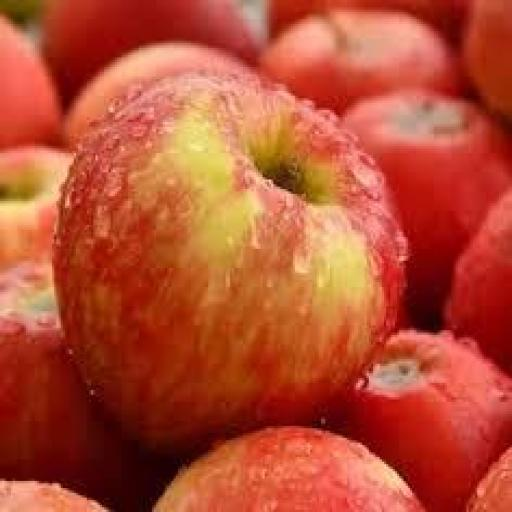apple: (55, 75, 405, 452)
